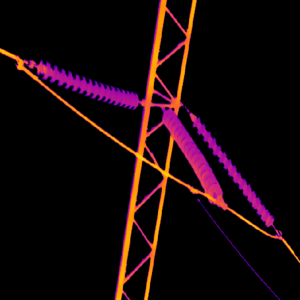insulator: (188, 110, 274, 228), (29, 54, 139, 110), (160, 105, 223, 201)
